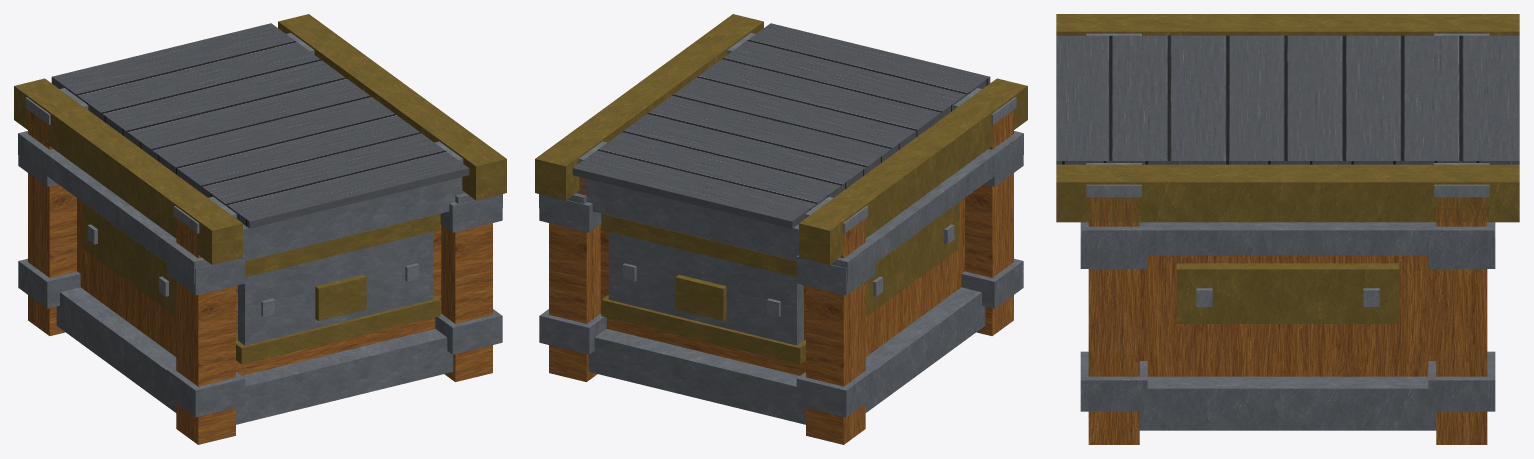
The model's file is hold_block.gltf.
3 views of the same model, side by side, from view 1: azimuth 30°, elevation 25°; view 2: azimuth 150°, elevation 25°; view 3: azimuth 270°, elevation 25° (orthographic). The views are drawn at different scales.
Bounding box in the file's own units: 0.9 × 0.625 × 1.
Materials: 5 (5 with a texture image).
